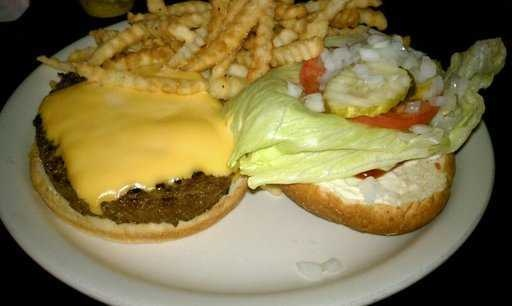hamburger: (34, 66, 459, 238)
